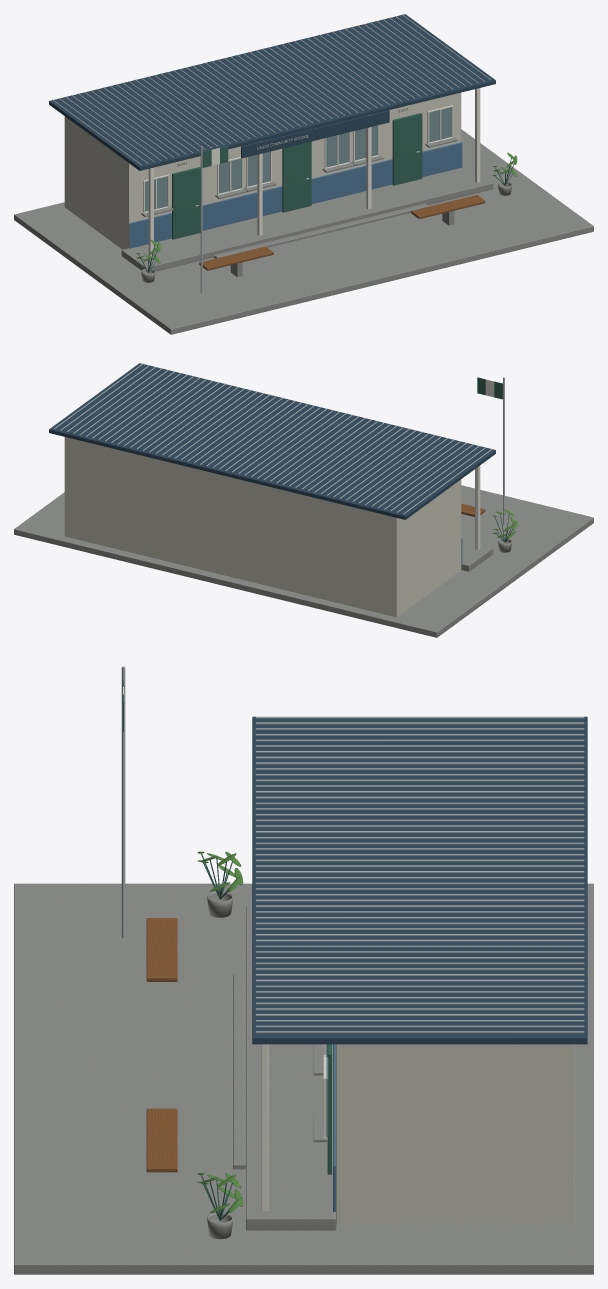
File: lagos-school.glb
3 renders of one model, top to bottom at view 1: azimuth 30°, elevation 25°; view 2: azimuth 150°, elevation 25°; view 3: azimuth 270°, elevation 25°, orthographic. The views are drawn at different scales.
Visible parts, largest first — view 1: School courtyard, Roof sheet, Classroom block, Front verandah, Blue lower facade, Classroom door.002, Classroom door.001, School sign, Classroom door, Verandah step, Courtyard bench.001, Courtyard bench (+11 smaller); view 2: Classroom block, Roof sheet, School courtyard, Front verandah, Verandah support; view 3: School courtyard, Roof sheet, Classroom block, Front verandah, Verandah step, Courtyard bench.001, Courtyard bench, Verandah support.003, Flag mast, Standing seam roof, Standing seam roof.001, Standing seam roof.005 (+28 smaller).
Part boxes in pixels (<box>): School courtyard: <box>14,129,593,334</box>; Roof sheet: <box>49,14,495,170</box>; Classroom block: <box>64,92,461,249</box>; Front verandah: <box>121,165,493,271</box>; Blue lower facade: <box>129,142,462,248</box>; Classroom door.002: <box>392,113,422,185</box>; Classroom door.001: <box>282,141,311,212</box>; School sign: <box>241,110,389,158</box>; Classroom door: <box>172,167,200,239</box>; Verandah step: <box>214,203,428,258</box>; Courtyard bench.001: <box>411,195,485,218</box>; Courtyard bench: <box>199,246,273,270</box>; Classroom block: <box>64,437,461,617</box>; Roof sheet: <box>49,363,495,519</box>; School courtyard: <box>14,485,593,637</box>; Front verandah: <box>461,540,493,571</box>; Verandah support: <box>475,465,480,550</box>; School courtyard: <box>14,883,593,1274</box>; Roof sheet: <box>252,716,587,1044</box>; Classroom block: <box>336,1044,574,1223</box>; Front verandah: <box>246,906,336,1230</box>; Verandah step: <box>233,974,245,1169</box>; Courtyard bench.001: <box>146,1108,177,1172</box>; Courtyard bench: <box>146,918,177,981</box>; Verandah support.003: <box>261,1044,269,1210</box>; Flag mast: <box>121,666,125,938</box>; Standing seam roof: <box>255,716,584,718</box>; Standing seam roof.001: <box>255,722,584,724</box>; Standing seam roof.005: <box>255,745,584,747</box>.
Size of the model in its own units: 14 by 4.82 by 9.
11 materials, 3 textured.
